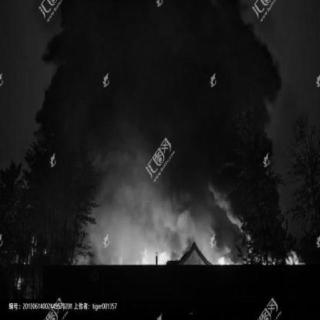Fire: (59, 234, 305, 270)
Smoke: (35, 3, 282, 231)
